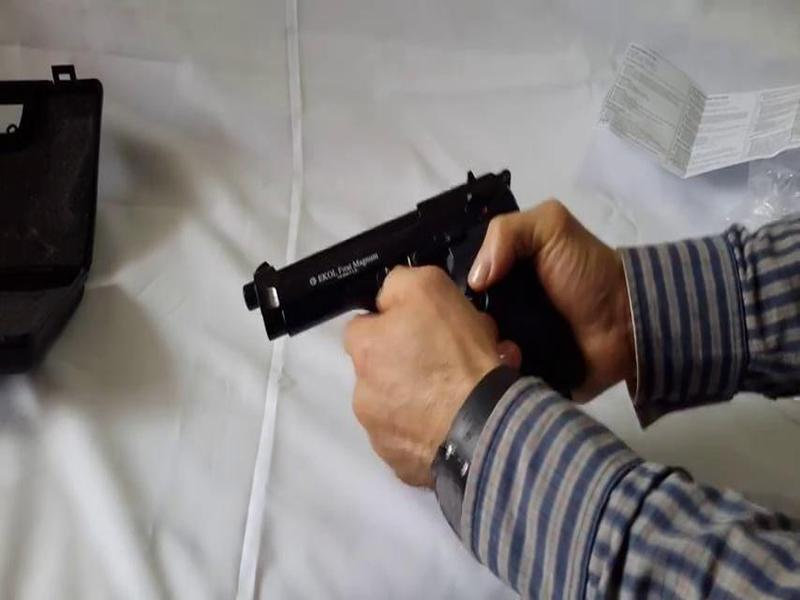Pistola: (245, 167, 571, 388)
